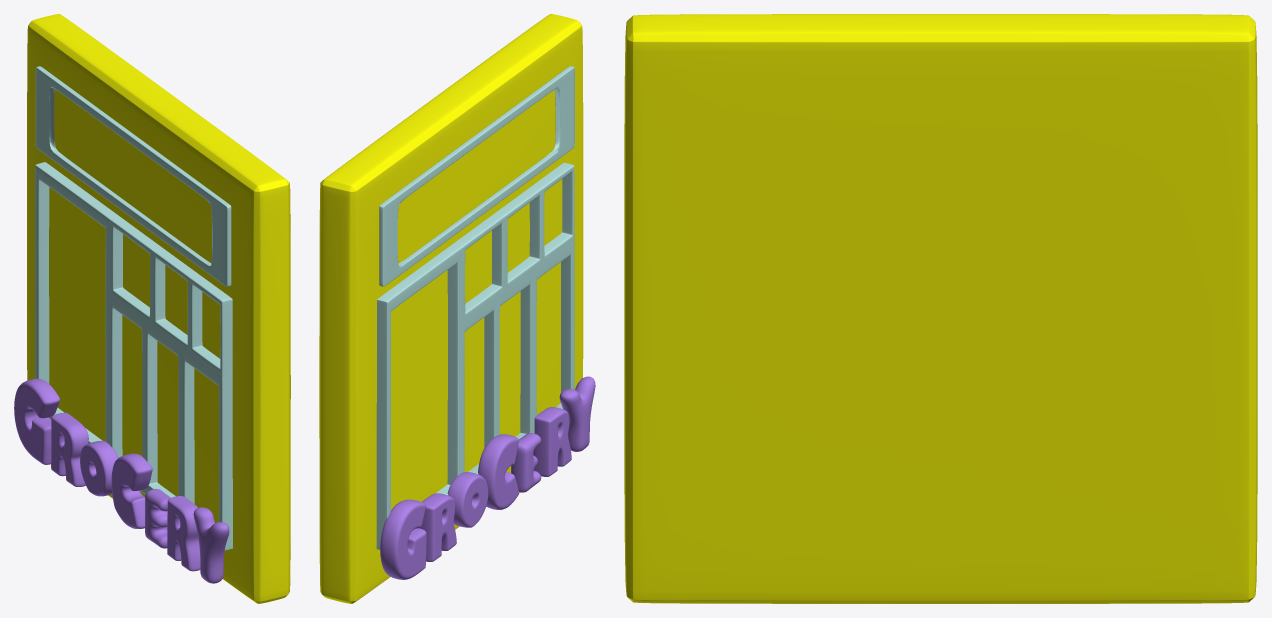
3 renders of one model, left to right at view 1: azimuth 30°, elevation 25°; view 2: azimuth 150°, elevation 25°; view 3: azimuth 270°, elevation 25°, orthographic. The views are drawn at different scales.
Parts seen in each view (by area): view 1: polySurface143800; view 2: polySurface143800; view 3: polySurface143800.
Boxes of the visible parts, box(x1,y1,x2,y2) form: polySurface143800: box(14, 14, 290, 603); polySurface143800: box(319, 14, 595, 603); polySurface143800: box(624, 14, 1257, 603).
Bounding box in the file's own units: 0.1625 × 0.9995 × 0.9995.
